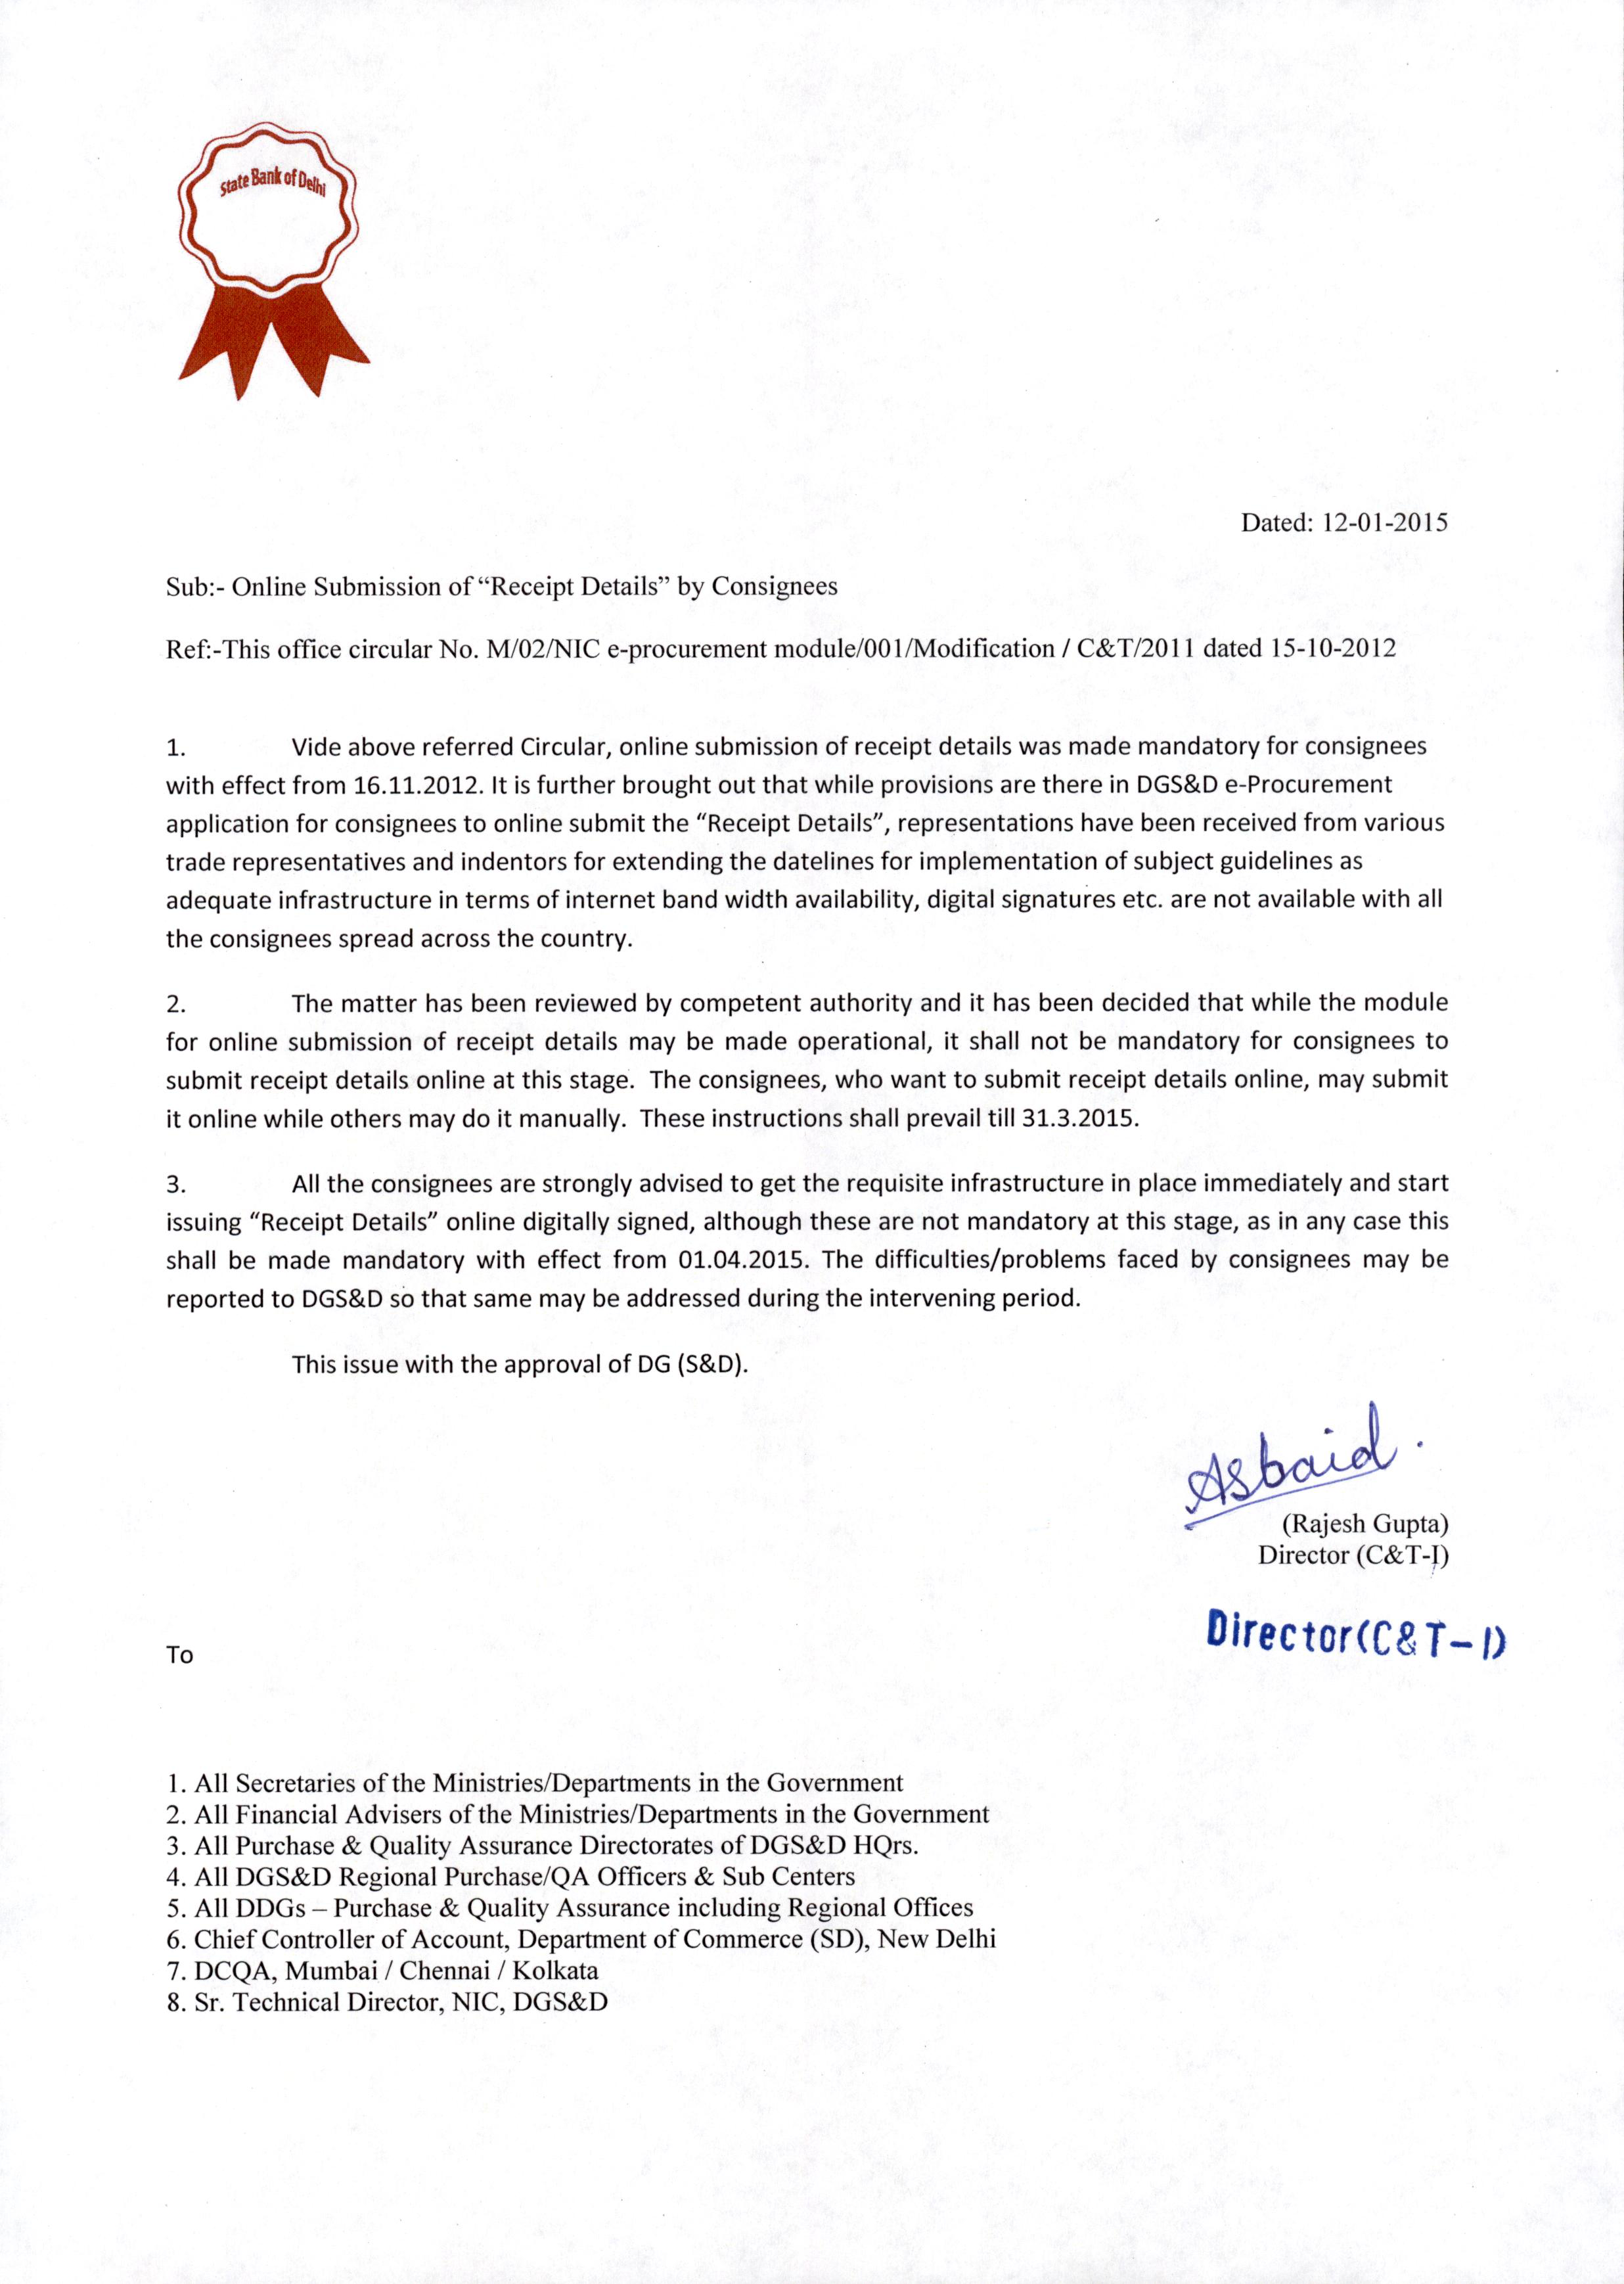Signature: (1176, 1389, 1411, 1514)
